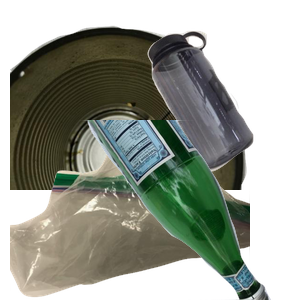glass: (75, 120, 300, 300)
metal: (10, 23, 250, 203)
plastic: (145, 28, 300, 192)
trash: (10, 134, 250, 300)
